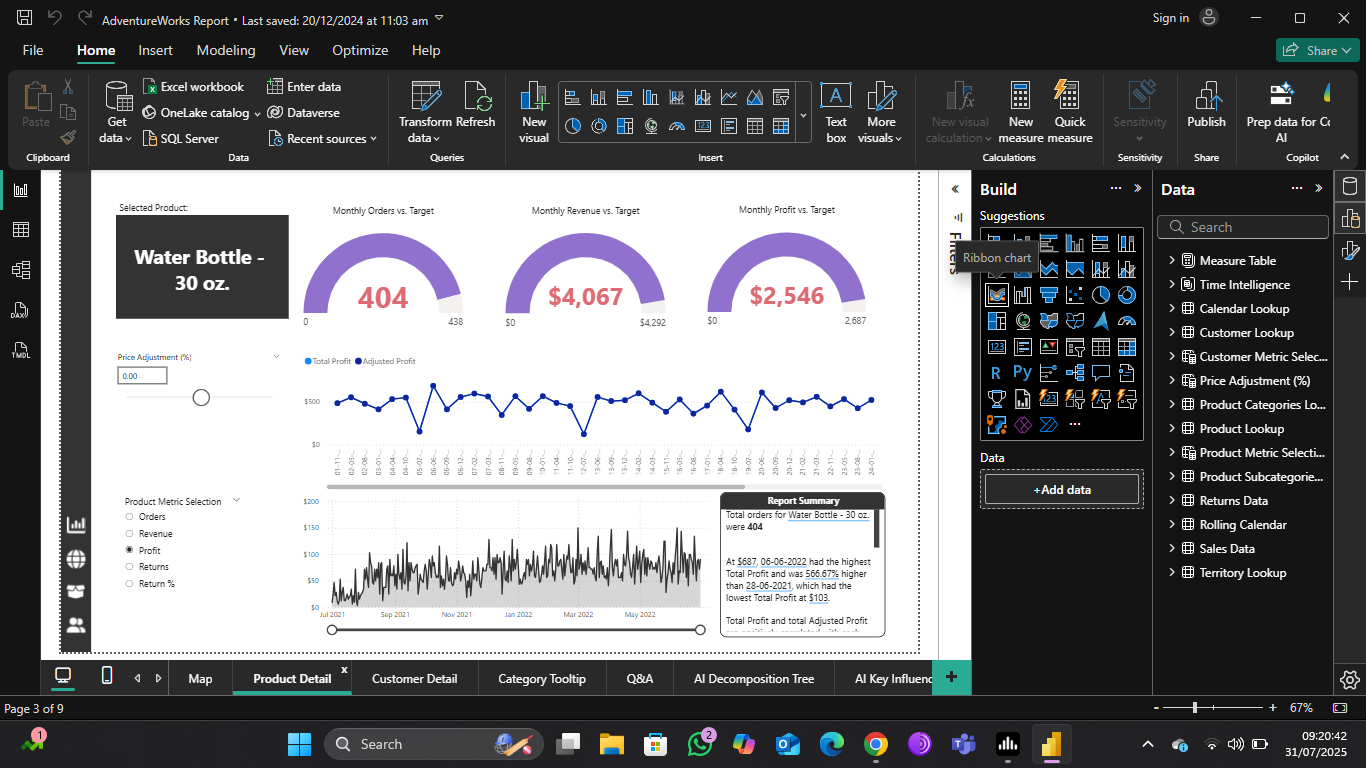

The dashboard page shown, as its layout file describes it:
{"tool":"powerbi","page":{"name":"Product Detail","canvas":[1280,720],"ordinal":2},"visuals":[{"type":"shape","box":[0,0,45,720],"z":0},{"type":"actionButton","box":[3.9,512.7,38.6,36.1],"z":0,"group":"g1"},{"type":"gauge","title":"Monthly Orders vs. Target","fields":{"Y":["Measure Table.Total Orders"],"MaxValue":["Measure Table.Order Target"]},"box":[357.1,51.9,248.5,213.5],"z":1000},{"type":"actionButton","box":[3.9,562.9,38.6,36.2],"z":1000,"group":"g1"},{"type":"gauge","title":"Monthly Revenue vs. Target","fields":{"Y":["Measure Table.Total Revenue"],"MaxValue":["Measure Table.Revenue Target"]},"box":[658.5,51.9,249.7,213.5],"z":2000},{"type":"actionButton","box":[3.9,613.2,38.6,35],"z":2000,"group":"g1"},{"type":"gauge","title":"Monthly Profit vs. Target","fields":{"Y":["Measure Table.Total Profit"],"MaxValue":["Measure Table.Profit Target"]},"box":[961,51.5,247.3,213.8],"z":3000},{"type":"actionButton","box":[3.9,662.3,38.6,36.2],"z":3000,"group":"g1"},{"type":"lineChart","title":"Profit Trending","fields":{"Category":["Calendar Lookup.Date Hierarchy.Start of Year","Calendar Lookup.Date Hierarchy.Start of Week","Calendar Lookup.Date Hierarchy.Date","Calendar Lookup.Date Hierarchy.Start of Month"],"Y":["Measure Table.Total Profit","Measure Table.Adjusted Profit"]},"box":[358.1,265.4,873.4,216.4],"z":4000},{"type":"areaChart","title":"Return Trending","fields":{"Y":["Measure Table.Total Profit"],"Category":["Calendar Lookup.Date Hierarchy.Start of Year","Calendar Lookup.Date Hierarchy.Start of Week","Calendar Lookup.Date Hierarchy.Date","Calendar Lookup.Date Hierarchy.Start of Month"]},"box":[357,481.7,627.2,217.2],"z":5000},{"type":"card","fields":{"Values":["Min(Product Lookup.ProductName)"]},"box":[82.4,67,257.7,154.6],"z":6000},{"type":"textbox","box":[82.4,41.2,128.8,33.5],"z":7000},{"type":"group","id":"g1","title":"Navigation Button","box":[3.9,512.7,38.6,185.8],"z":8000},{"type":"slicer","fields":{"Values":["Price Adjustment (%).Price Adjustment (%)"]},"box":[72.4,265.4,267.8,129.1],"z":9000},{"type":"slicer","fields":{"Values":["Product Metric Selection.Product Metric Selection"]},"box":[82,481.4,197.9,167.7],"z":10000},{"type":"textbox","title":"Report Summary","box":[984.2,481.7,247.5,217.2],"z":11000}]}

Visuals, with their boxes on the page's 1280x720 design canvas (x1, y1, x2, y2). These are canvas units, not pixel positions in the 1366x768 screenshot, which may show the page scaled, cropped or inside an application window:
shape: x1=0 y1=0 x2=45 y2=720
actionButton: x1=4 y1=513 x2=42 y2=549
"Monthly Orders vs. Target" gauge: x1=357 y1=52 x2=606 y2=265
actionButton: x1=4 y1=563 x2=42 y2=599
"Monthly Revenue vs. Target" gauge: x1=658 y1=52 x2=908 y2=265
actionButton: x1=4 y1=613 x2=42 y2=648
"Monthly Profit vs. Target" gauge: x1=961 y1=52 x2=1208 y2=265
actionButton: x1=4 y1=662 x2=42 y2=698
"Profit Trending" lineChart: x1=358 y1=265 x2=1232 y2=482
"Return Trending" areaChart: x1=357 y1=482 x2=984 y2=699
card - Min(Product Lookup.ProductName): x1=82 y1=67 x2=340 y2=222
textbox: x1=82 y1=41 x2=211 y2=75
"Navigation Button" group: x1=4 y1=513 x2=42 y2=698
slicer - Price Adjustment (%).Price Adjustment (%): x1=72 y1=265 x2=340 y2=394
slicer - Product Metric Selection.Product Metric Selection: x1=82 y1=481 x2=280 y2=649
"Report Summary" textbox: x1=984 y1=482 x2=1232 y2=699
